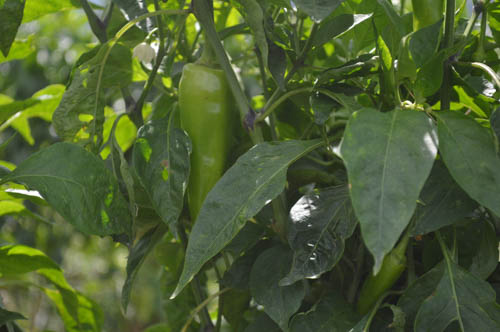ChiliPepper: (177, 62, 228, 223), (355, 256, 402, 315)
